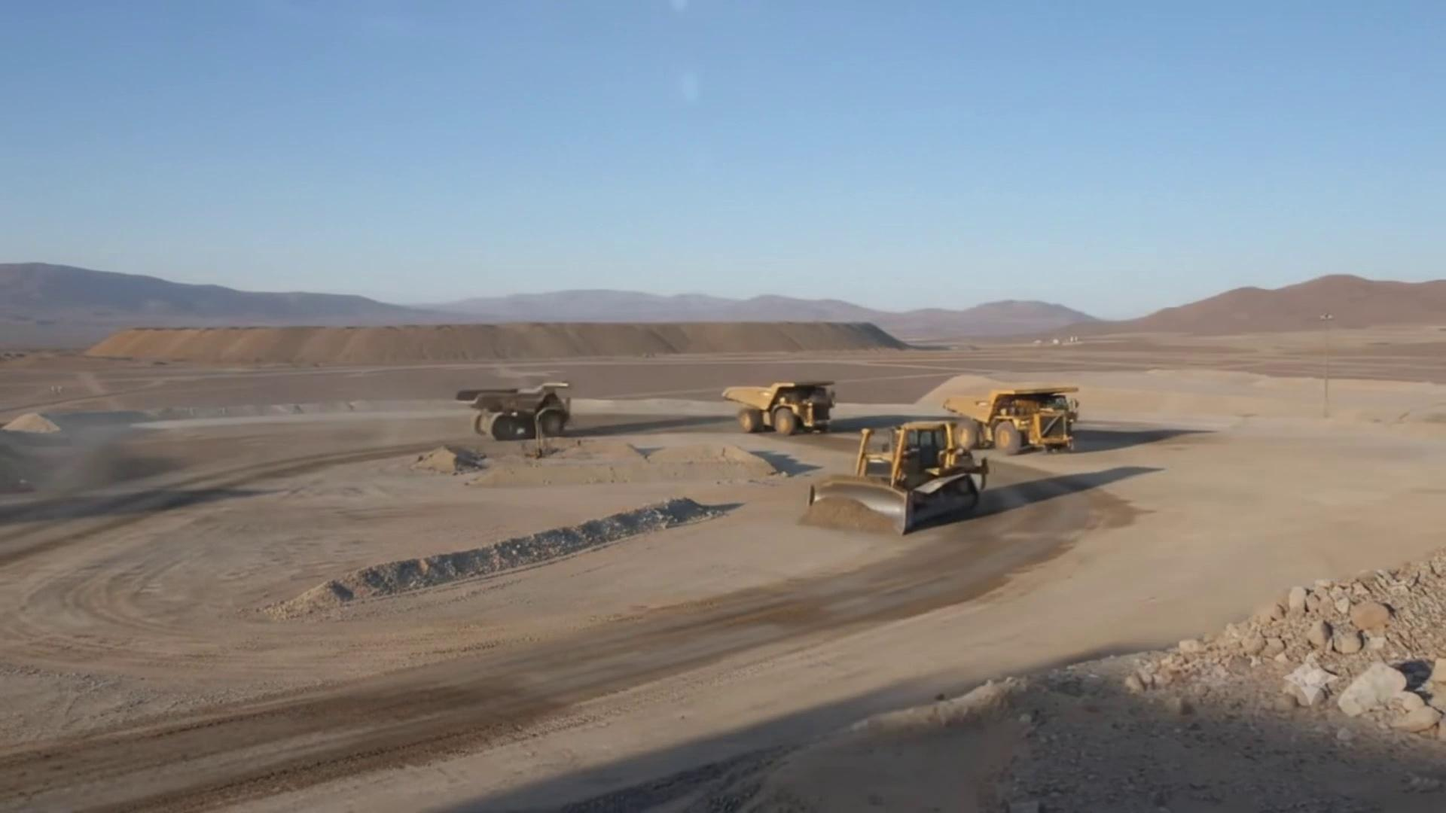CAEX: (931, 385, 1081, 454), (457, 381, 574, 440), (721, 383, 837, 435)
bulldozer: (810, 422, 988, 534)
